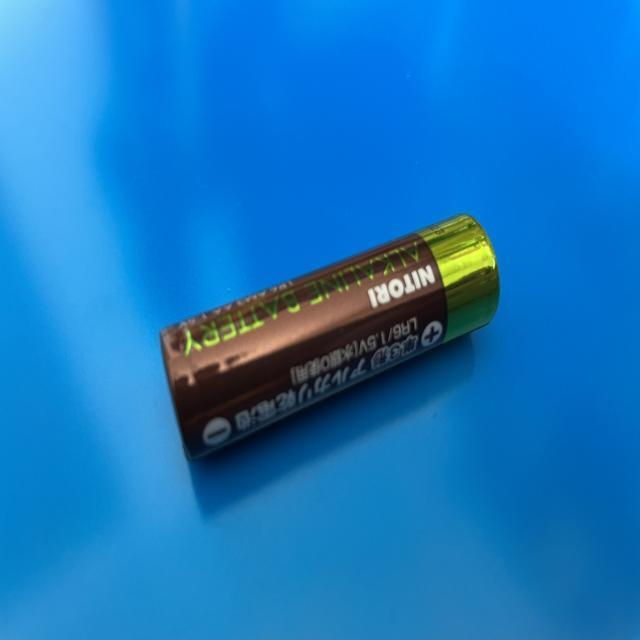AA: (159, 212, 502, 464)
